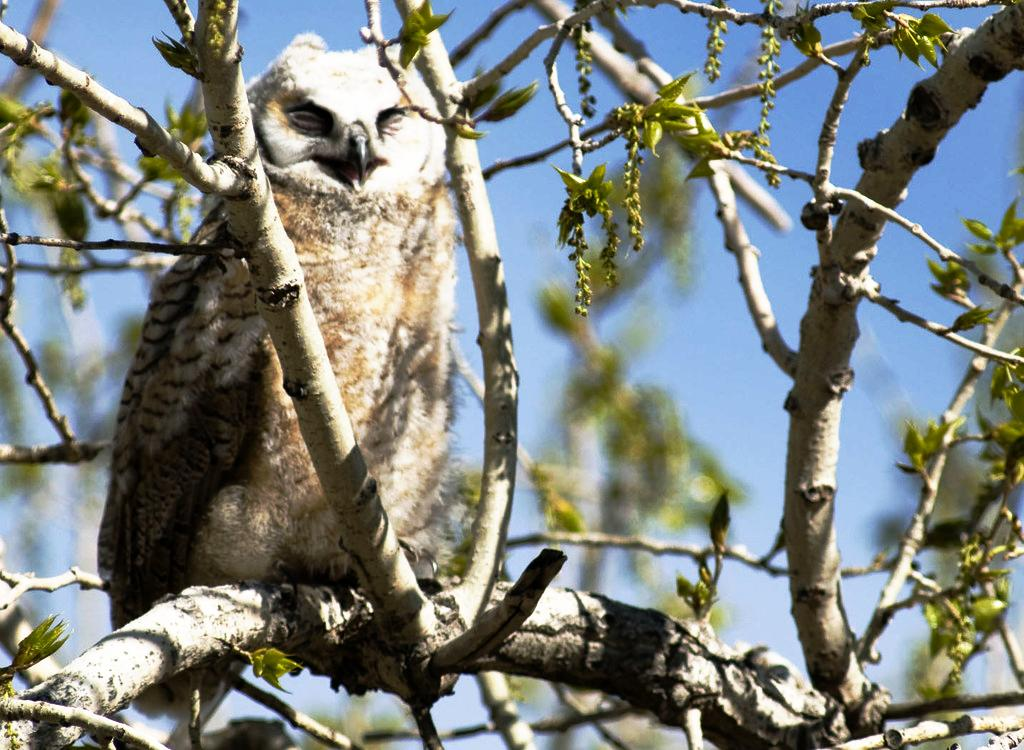Owl: (96, 27, 472, 723)
